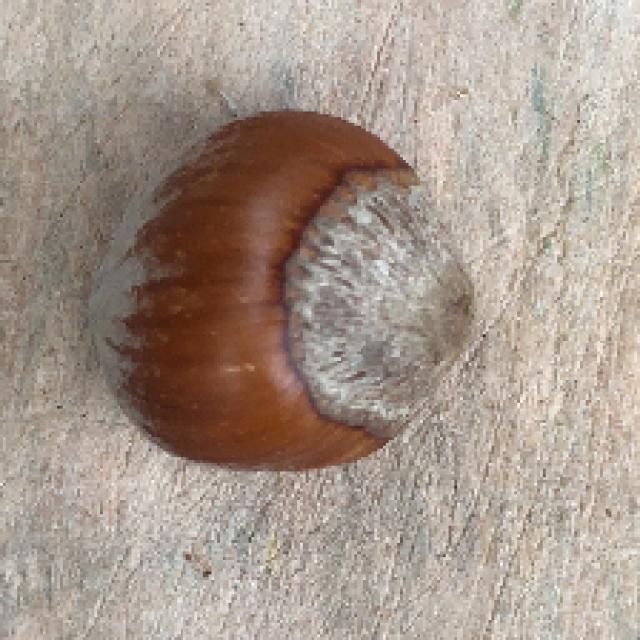qualityHazelnut: (84, 106, 477, 475)
